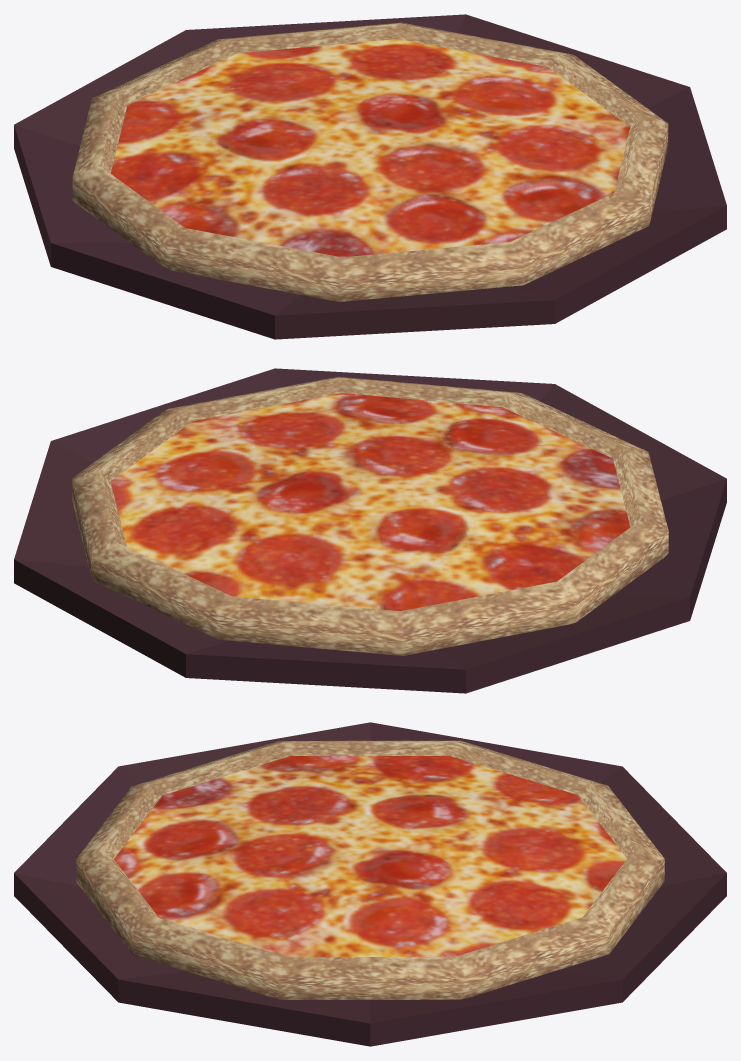
Rendered from pizza.fbx.
3 renders of one model, top to bottom at view 1: azimuth 30°, elevation 25°; view 2: azimuth 150°, elevation 25°; view 3: azimuth 270°, elevation 25°, orthographic. The views are drawn at different scales.
Parts seen in each view (by area): view 1: Pizza, Pizza Stand; view 2: Pizza, Pizza Stand; view 3: Pizza, Pizza Stand.
Part boxes in pixels (x1=…): Pizza: x1=72, y1=22, x2=668, y2=301; Pizza Stand: x1=14, y1=14, x2=726, y2=339; Pizza: x1=72, y1=376, x2=668, y2=655; Pizza Stand: x1=14, y1=368, x2=726, y2=693; Pizza: x1=76, y1=740, x2=664, y2=999; Pizza Stand: x1=14, y1=722, x2=726, y2=1046.
Bounding box in the file's own units: 2 × 0.2935 × 2.
